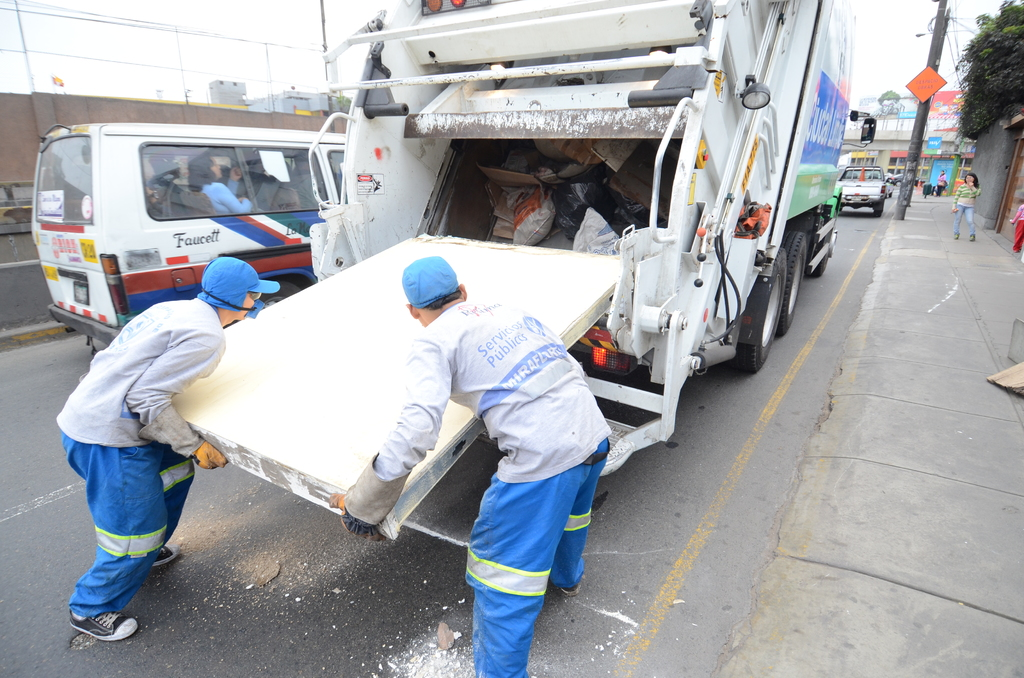car: (19, 107, 367, 323), (829, 159, 895, 219)
truck: (274, 1, 880, 597)
